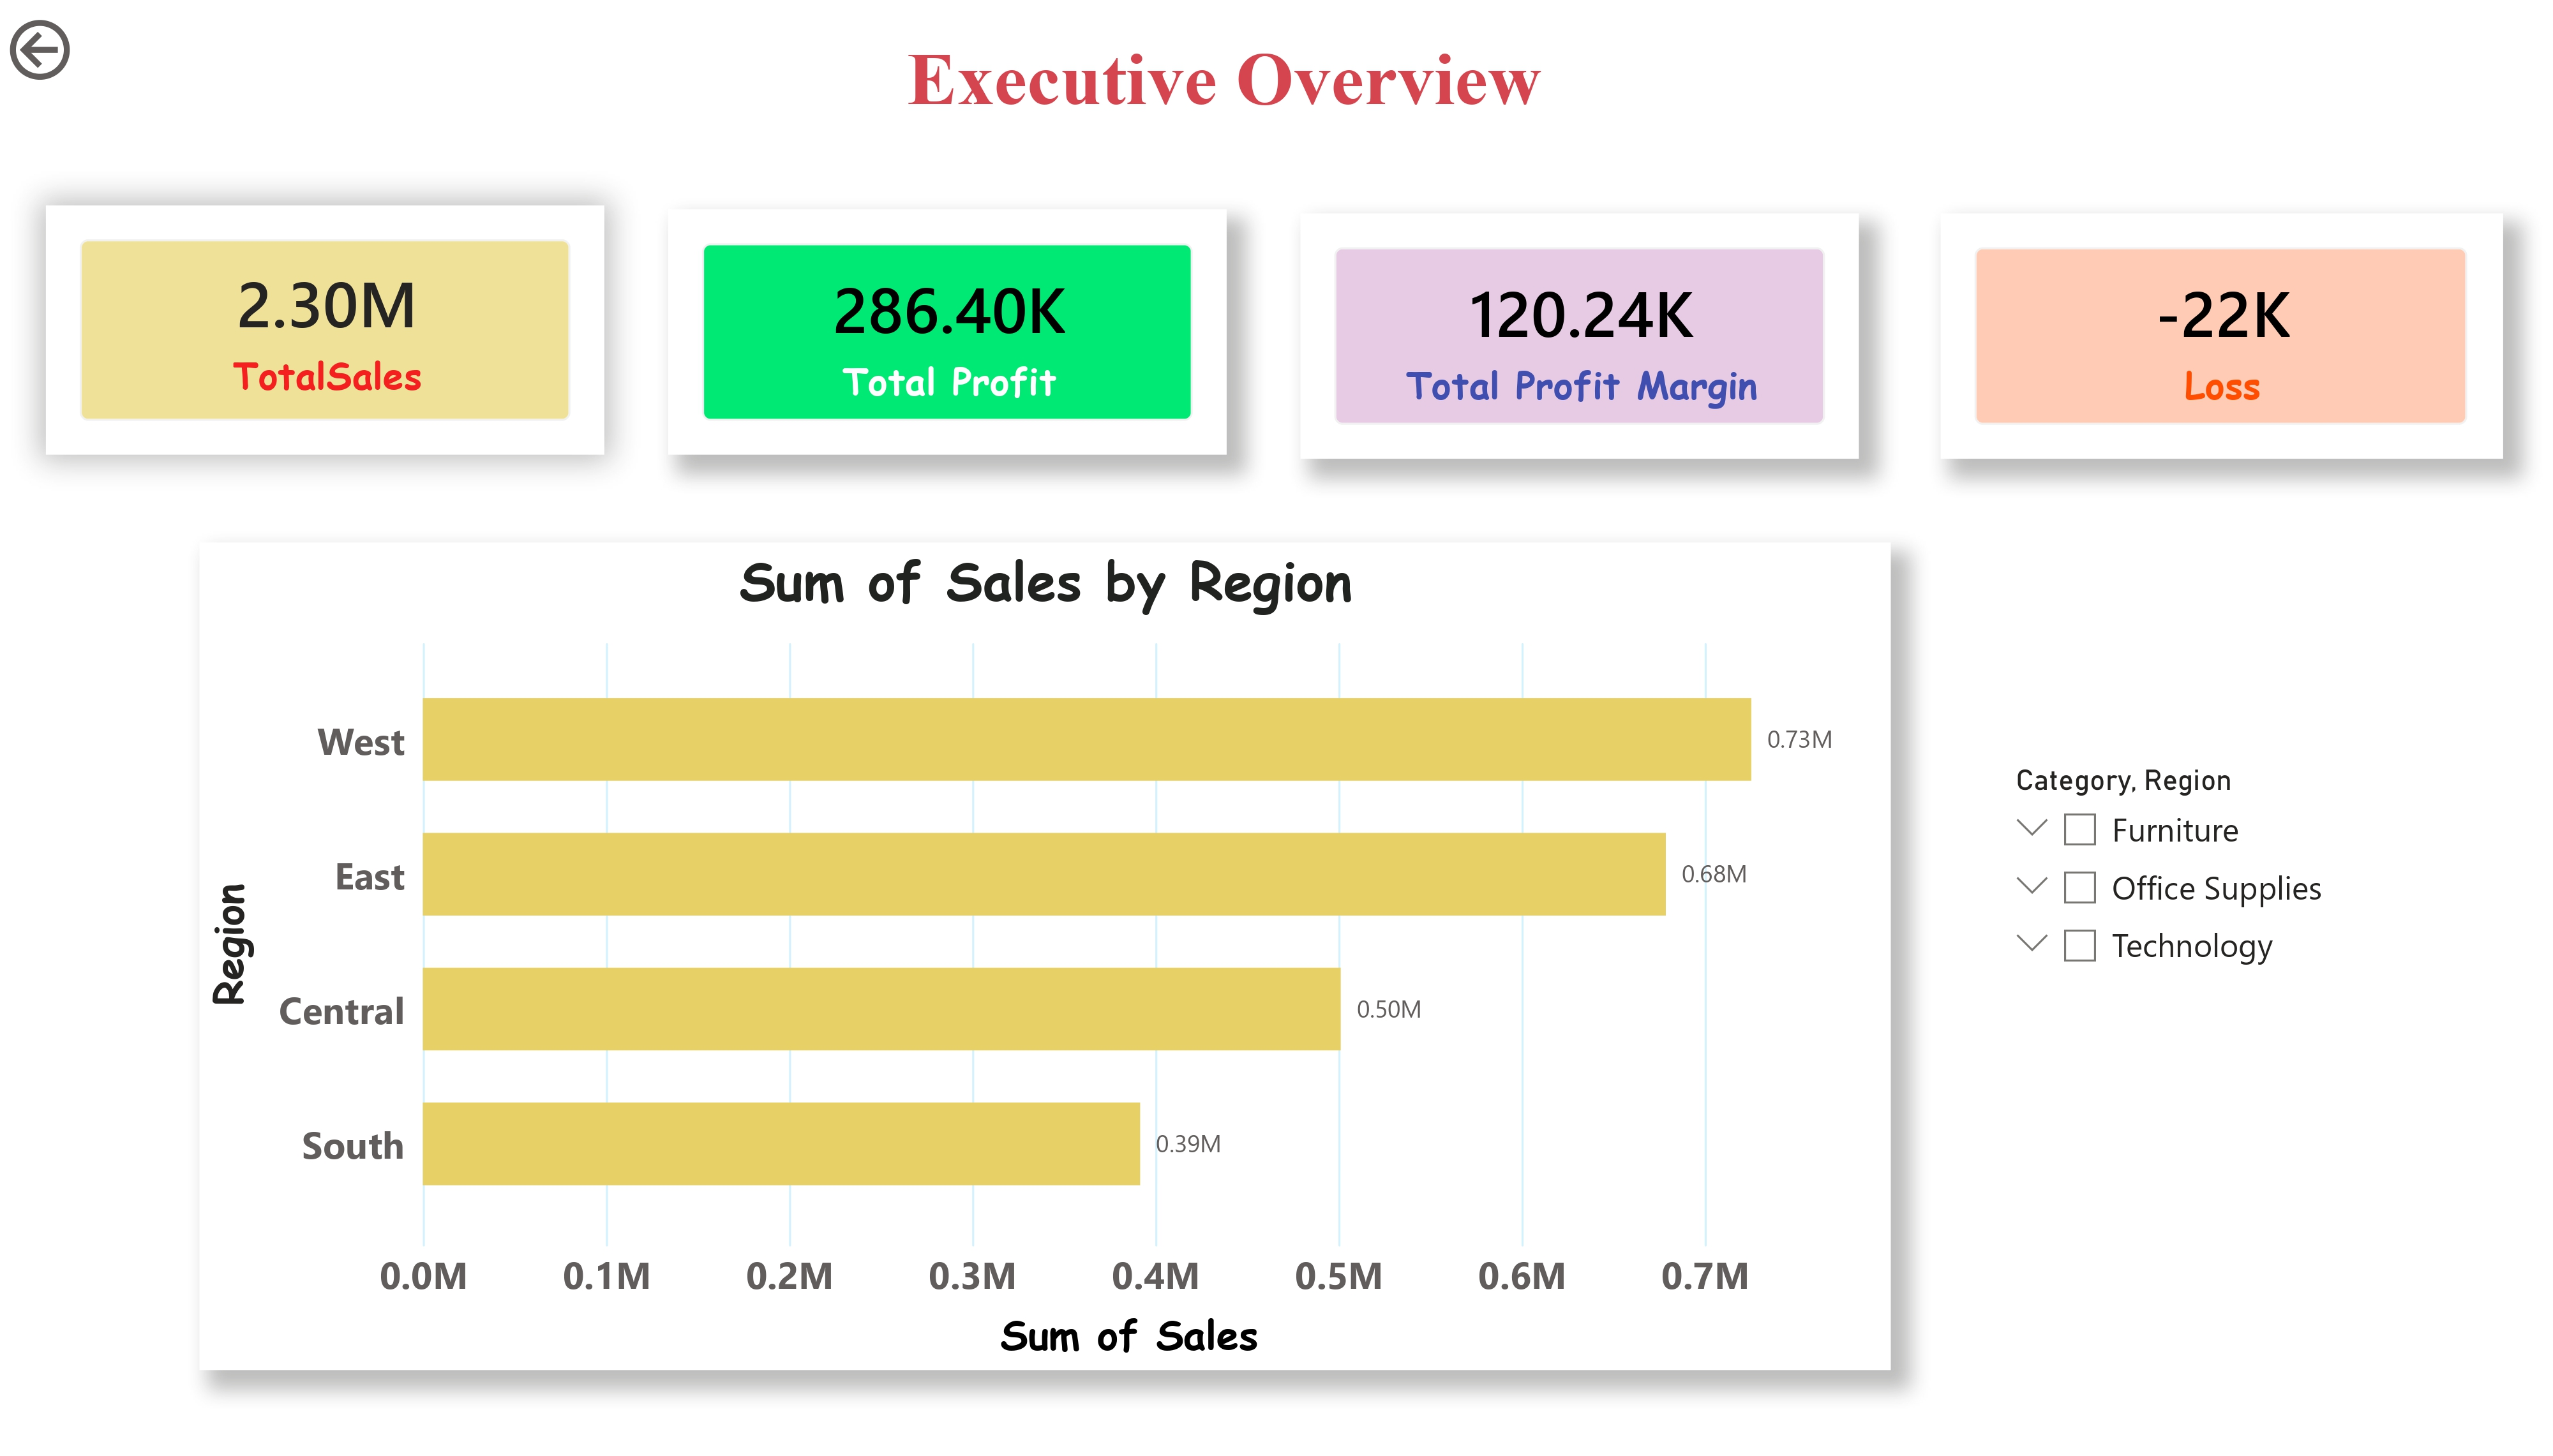

What the dashboard file says about the page in this screenshot:
{"tool":"powerbi","page":{"name":"Page 1","canvas":[1280,720],"ordinal":0},"visuals":[{"type":"cardVisual","fields":{"Data":["Customersegment_performance.TotalSales"]},"box":[23.3,98.3,280,125],"z":0},{"type":"cardVisual","fields":{"Data":["Sum(SampleSuperstorecleaned.Profit)"]},"box":[335,100,280,123.3],"z":1000},{"type":"cardVisual","fields":{"Data":["Sum(SampleSuperstorecleaned.Profit Margin)"]},"box":[651.7,101.7,280,123.3],"z":2000},{"type":"actionButton","box":[0,0,100,40],"z":3000},{"type":"cardVisual","fields":{"Data":["Sum(Subcategory loss.Loss)"]},"box":[973.3,101.7,281.7,123.3],"z":4000},{"type":"barChart","fields":{"Category":["SampleSuperstorecleaned.Region"],"Y":["Sum(SampleSuperstorecleaned.Sales)"]},"box":[100,266.7,848.3,415],"z":5000},{"type":"slicer","fields":{"Values":["SampleSuperstorecleaned.Category","SampleSuperstorecleaned.Region"]},"box":[998.3,373.3,203.3,175],"z":6000},{"type":"textbox","box":[398.3,8.3,431.7,63.3],"z":7000}]}

Visuals, with their boxes in screenshot pixels (x1, y1, x2, y2), scaled from the page's 1280x720 canvas onto the 2553x1456 screenshot:
cardVisual - Customersegment_performance.TotalSales: (47, 199, 605, 452)
cardVisual - Sum(SampleSuperstorecleaned.Profit): (668, 202, 1227, 452)
cardVisual - Sum(SampleSuperstorecleaned.Profit Margin): (1300, 205, 1859, 455)
actionButton: (0, 0, 199, 81)
cardVisual - Sum(Subcategory loss.Loss): (1942, 205, 2503, 455)
barChart - SampleSuperstorecleaned.Region x Sum(SampleSuperstorecleaned.Sales): (199, 539, 1891, 1379)
slicer - SampleSuperstorecleaned.Category x SampleSuperstorecleaned.Region: (1991, 755, 2397, 1109)
textbox: (795, 17, 1656, 145)
